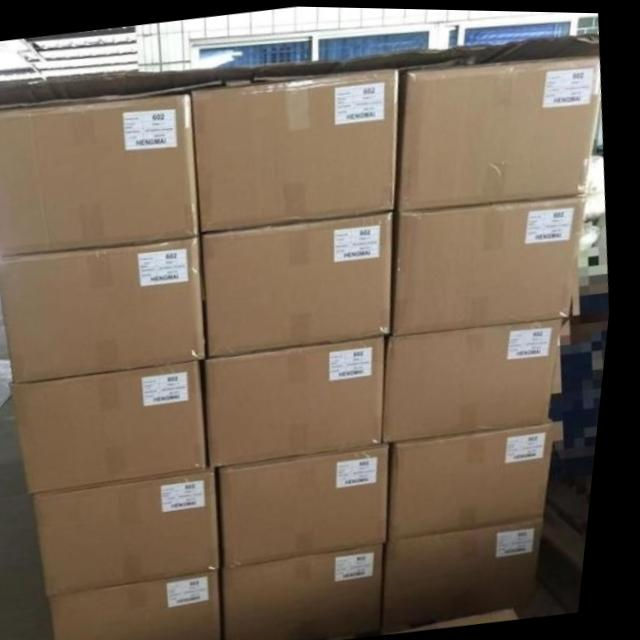box: (195, 66, 403, 233), (0, 93, 205, 257), (0, 235, 212, 385), (402, 52, 603, 210), (205, 213, 398, 356), (17, 359, 218, 492), (400, 194, 590, 334), (43, 471, 232, 598), (213, 334, 392, 468), (392, 317, 570, 443), (230, 444, 400, 567), (402, 421, 564, 538), (393, 517, 556, 632), (236, 543, 396, 640), (62, 570, 235, 640)
